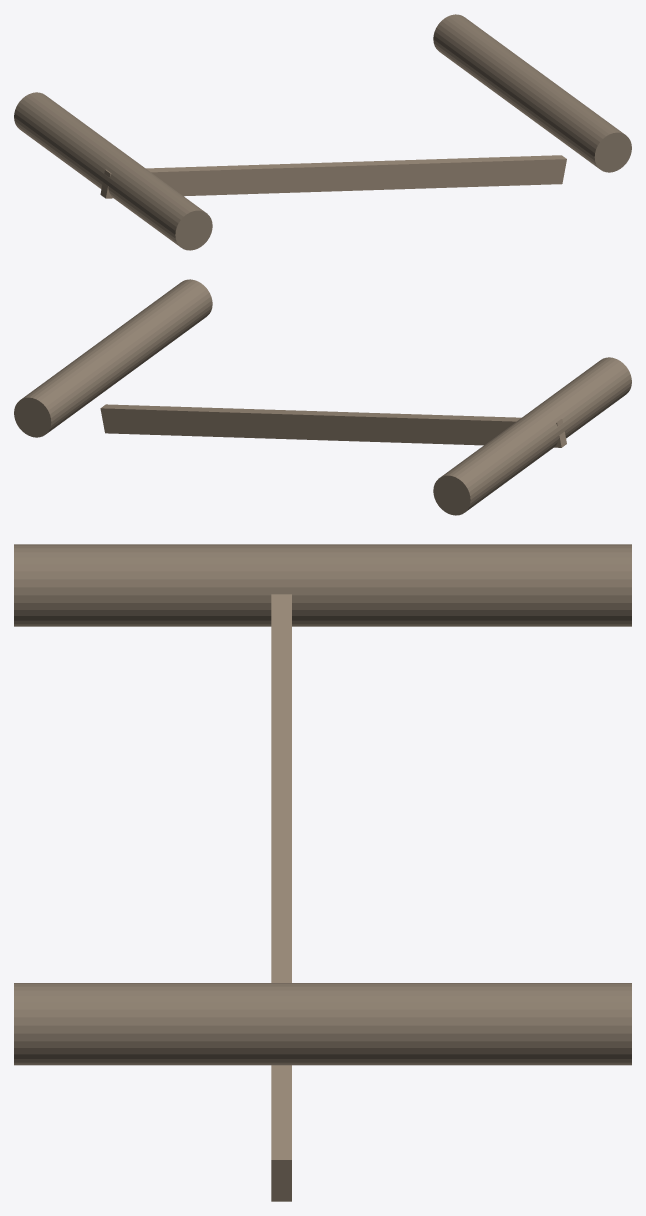
The model's file is broken_fence.glb.
3 views of the same model, one above another, from view 1: azimuth 30°, elevation 25°; view 2: azimuth 150°, elevation 25°; view 3: azimuth 270°, elevation 25° (orthographic). The views are drawn at different scales.
Visible parts, largest first — view 1: geometry_0; view 2: geometry_0; view 3: geometry_0.
Boxes of the visible parts, x1,y1,x2,y2 form: geometry_0: (14,14,631,250); geometry_0: (14,279,631,515); geometry_0: (14,544,631,1201).
Size of the model in its own units: 1.98 by 0.5277 by 1.2.
